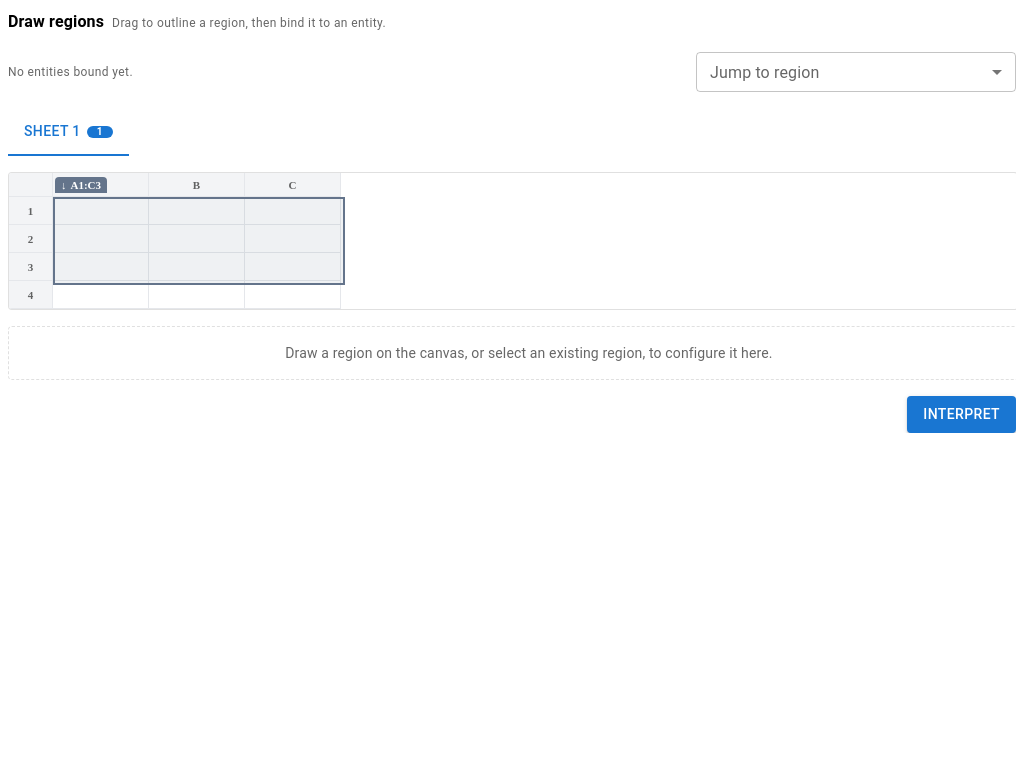
Scenario: RegionDrawingStepUI — interpret validation › clicking Interpret with invalid regions blocks navigation and shows a summary
Click the button "Interpret" at (962, 414), box x1=907 y1=396 x2=1016 y2=432
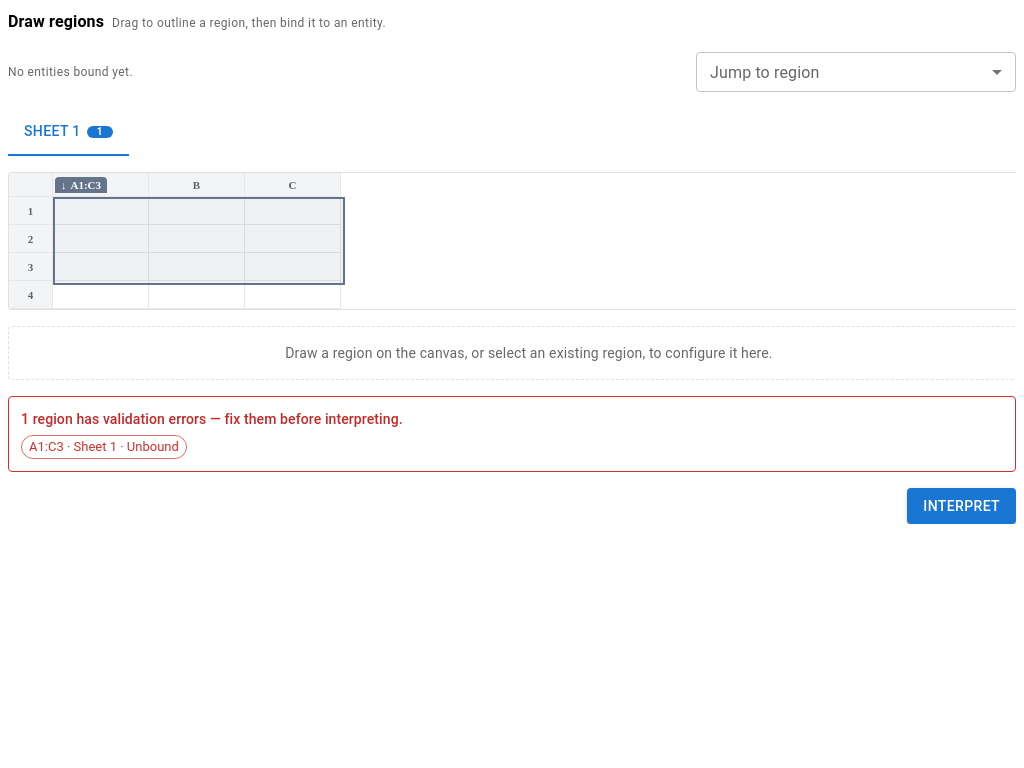
Check: the message shows "1 region has validation errors", box x1=21 y1=411 x2=206 y2=427
